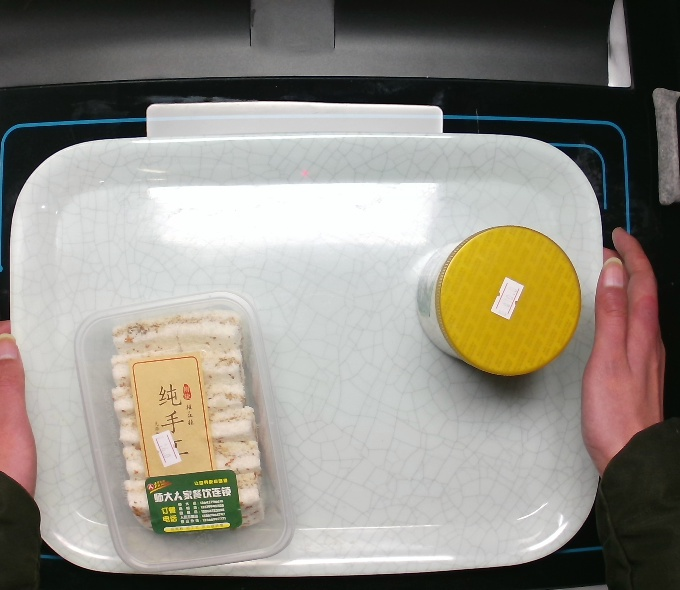wcq-GuiHuaGao: (71, 287, 295, 572)
wcq-MaiYaTang: (416, 224, 582, 378)
